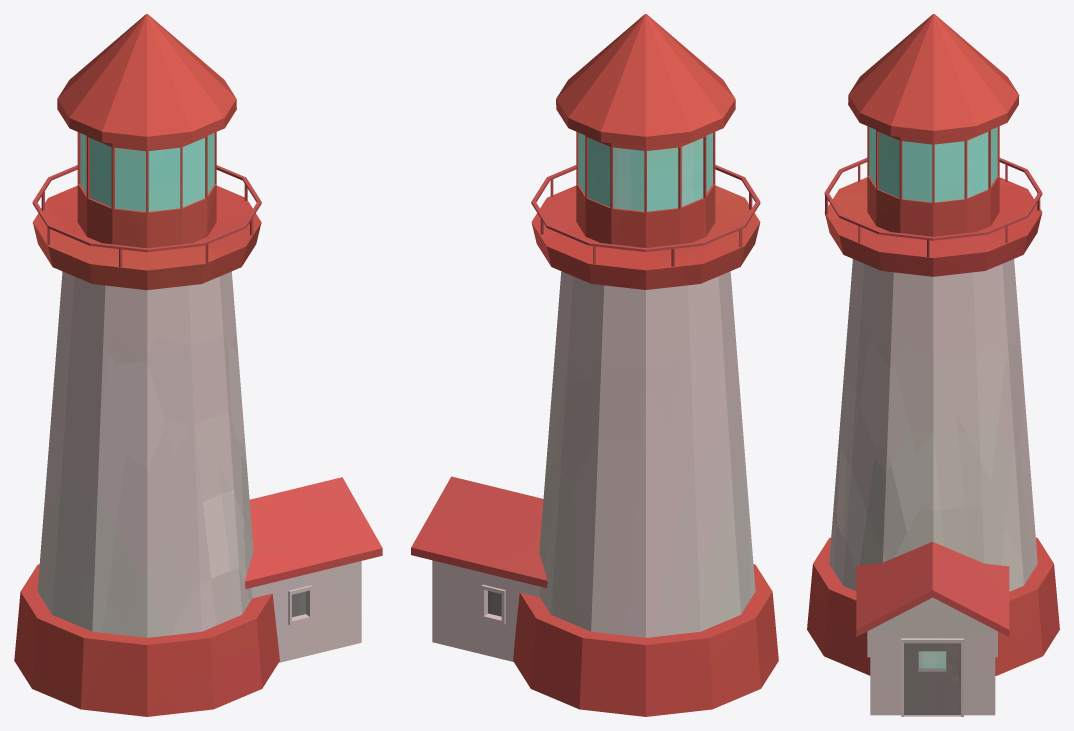
The model's file is Lighthouse.glb.
The picture shows the model from 3 angles, left to right: view 1: azimuth 30°, elevation 25°; view 2: azimuth 150°, elevation 25°; view 3: azimuth 270°, elevation 25°; orthographic projection. The views are drawn at different scales.
Parts seen in each view (by area): view 1: Cube.001_Cube.000; view 2: Cube.001_Cube.000; view 3: Cube.001_Cube.000.
Part boxes in pixels (x1=…): Cube.001_Cube.000: x1=14, y1=14, x2=382, y2=716; Cube.001_Cube.000: x1=411, y1=14, x2=778, y2=716; Cube.001_Cube.000: x1=807, y1=14, x2=1059, y2=716.
Size of the model in its own units: 12.49 by 24.94 by 9.27.
Materials: 1 (1 with a texture image).
